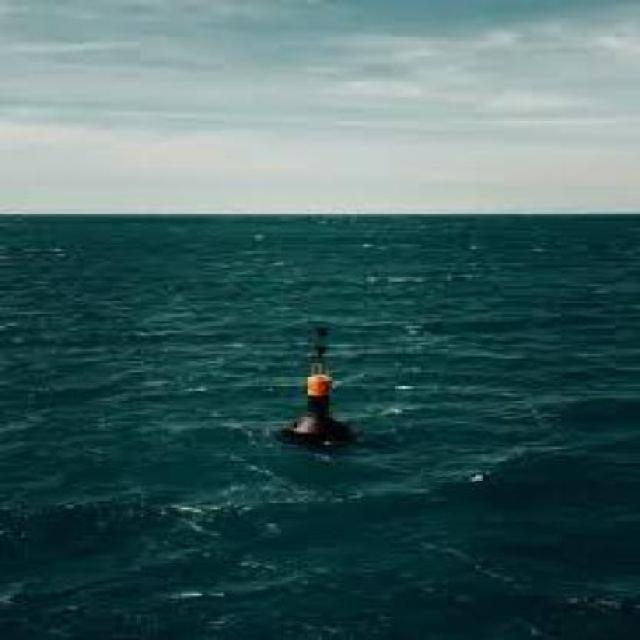buoy: (273, 325, 358, 452)
